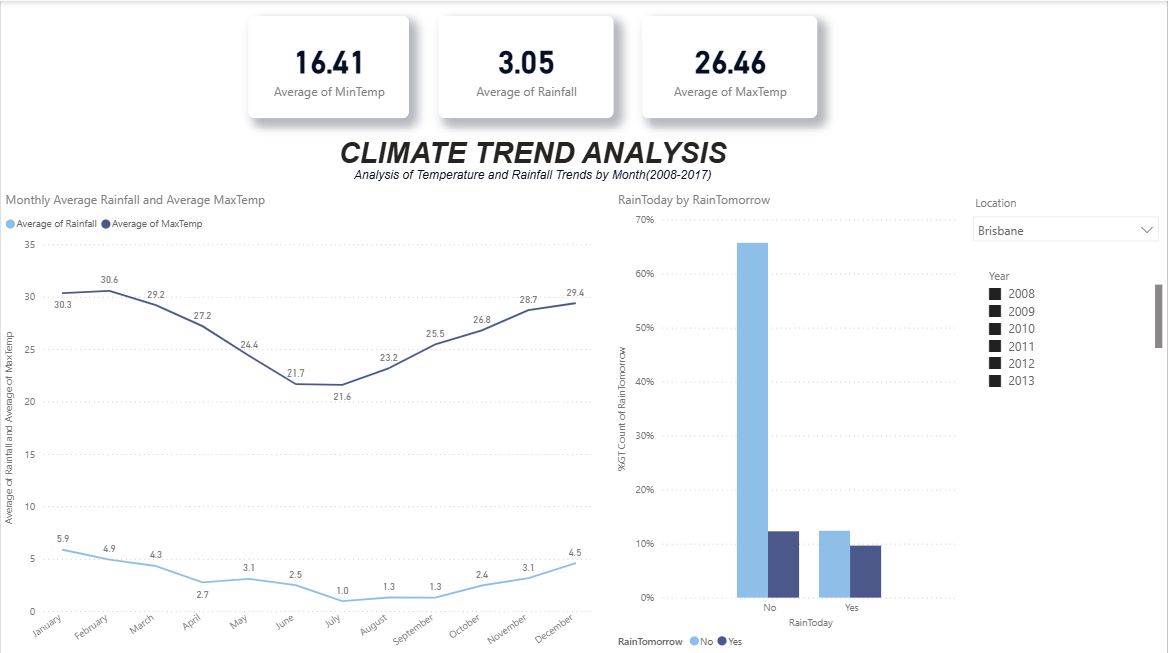

The page's visual inventory and layout, read from the dashboard file:
{"tool":"powerbi","page":{"name":"DASHBOARD","canvas":[1280,720],"ordinal":0},"visuals":[{"type":"slicer","fields":{"Values":["cleaned_climate_data.Year"]},"box":[1072,288,208,144],"z":0},{"type":"clusteredColumnChart","title":"RainToday by RainTomorrow","fields":{"Category":["cleaned_climate_data.RainToday"],"Series":["cleaned_climate_data.RainTomorrow"],"Y":["CountNonNull(cleaned_climate_data.RainTomorrow)"]},"box":[672,208,384,512],"z":1000},{"type":"textbox","box":[272,144,624,64],"z":2000},{"type":"card","fields":{"Values":["Avg(cleaned_climate_data.MinTemp)"]},"box":[272,16,176,112],"z":3000},{"type":"card","fields":{"Values":["Avg(cleaned_climate_data.Rainfall)"]},"box":[480,16,192,112],"z":4000},{"type":"card","fields":{"Values":["Avg(cleaned_climate_data.MaxTemp)"]},"box":[704,16,192,112],"z":5000},{"type":"slicer","fields":{"Values":["cleaned_climate_data.Location"]},"box":[1056,208,224,80],"z":6000},{"type":"textbox","box":[368,176,432,32],"z":7000},{"type":"lineChart","title":"Monthly Average Rainfall and Average MaxTemp ","fields":{"Category":["cleaned_climate_data.Month_Name"],"Y":["Avg(cleaned_climate_data.Rainfall)","Avg(cleaned_climate_data.MaxTemp)"]},"box":[0,208,656,512],"z":8000}]}

Visuals, with their boxes in screenshot pixels (x1, y1, x2, y2), scaled from the page's 1280x720 canvas onto the 1168x653 screenshot:
slicer - cleaned_climate_data.Year: select_region(978, 261, 1167, 392)
"RainToday by RainTomorrow" clusteredColumnChart: select_region(613, 189, 964, 652)
textbox: select_region(248, 131, 818, 189)
card - Avg(cleaned_climate_data.MinTemp): select_region(248, 15, 409, 116)
card - Avg(cleaned_climate_data.Rainfall): select_region(438, 15, 613, 116)
card - Avg(cleaned_climate_data.MaxTemp): select_region(642, 15, 818, 116)
slicer - cleaned_climate_data.Location: select_region(964, 189, 1167, 261)
textbox: select_region(336, 160, 730, 189)
"Monthly Average Rainfall and Average MaxTemp " lineChart: select_region(0, 189, 599, 652)
